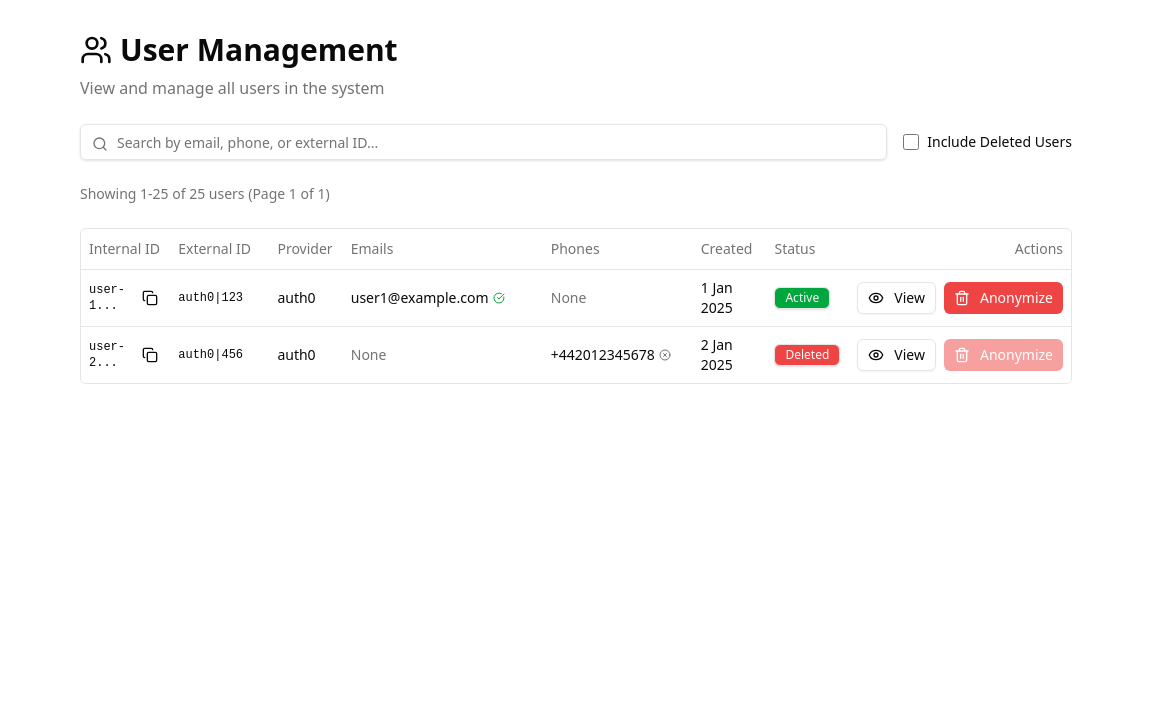
it: AdminUsers › user details dialog › should open user details dialog when view button clicked
What coordinates should you click on to do the following:
click the button "View" in the row of "user-1..."
I would click on:
 (897, 298)
Its box is [857, 282, 936, 314].
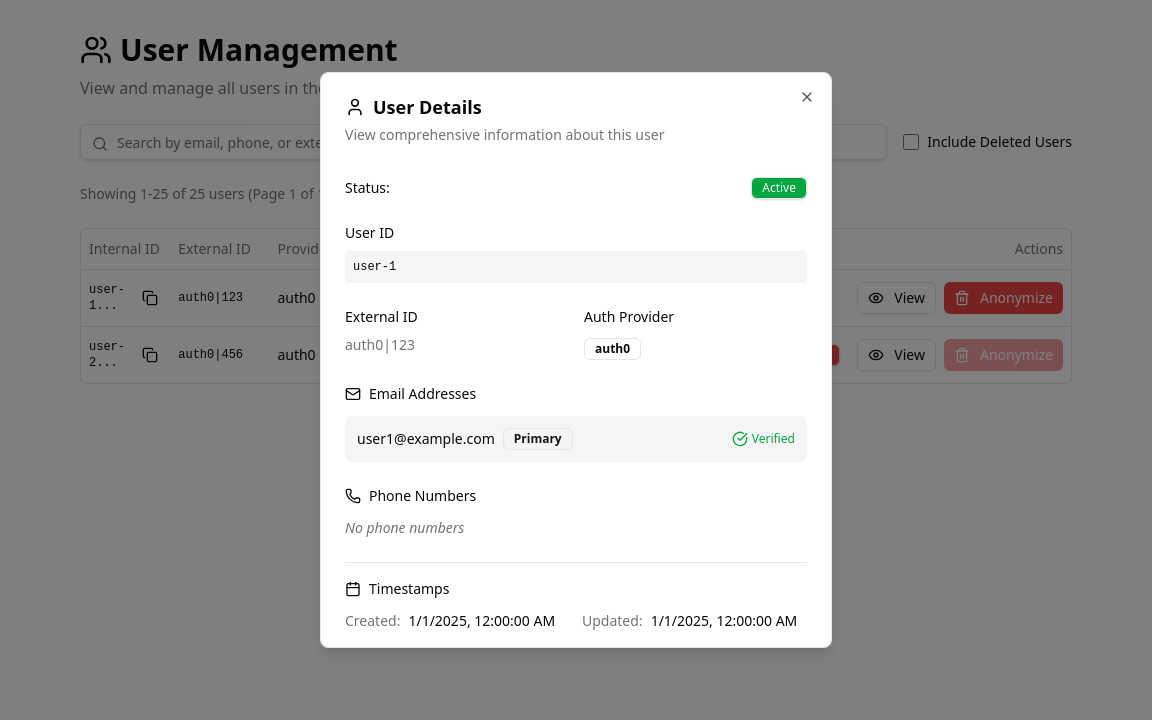
Expected: the heading "User Details" is shown, [345, 95, 482, 119]
